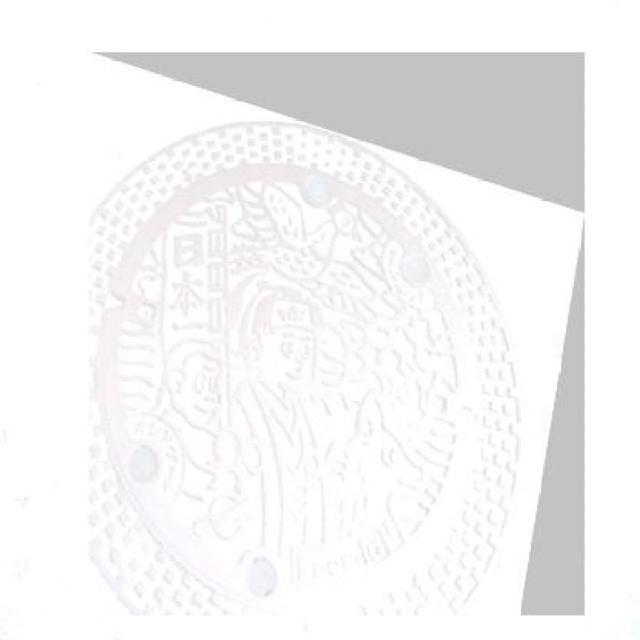Manhole: (90, 50, 586, 616)
